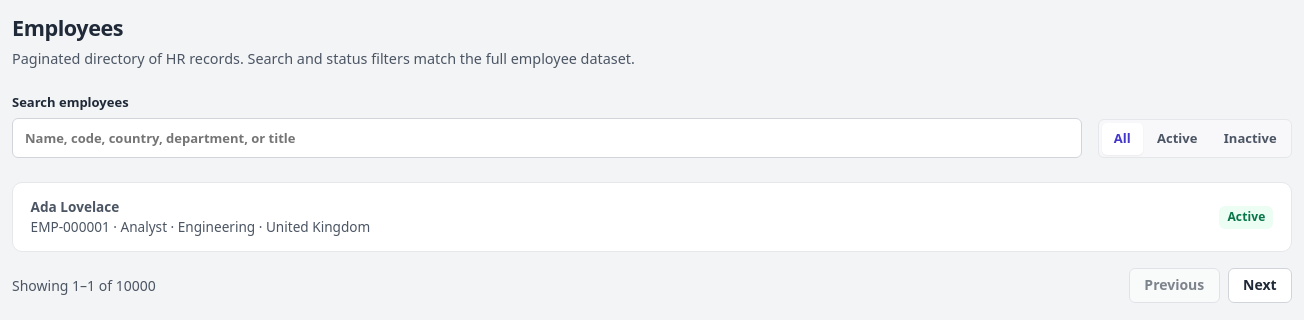
Test: entering a search query requests employees with q and uses API results
Check: the text "Ada Lovelace" is shown, box [31,197,119,216]
Check: the text "Seed Employee 005000" is not shown
Type "EMP-005000" into the search field labelled "Search employees".
click(547, 138); type("EMP-005000")  # box [12,118,1082,158]
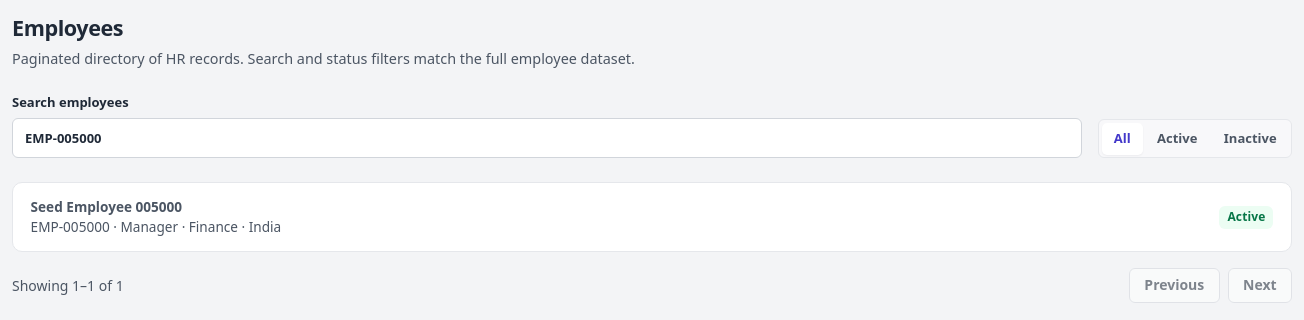
Check: the text "Showing 1–1 of 1" is shown, box [12,275,124,296]
Check: the text "Seed Employee 005000" is shown, box [31,197,182,216]
Check: the button "Ada Lovelace" is gone
